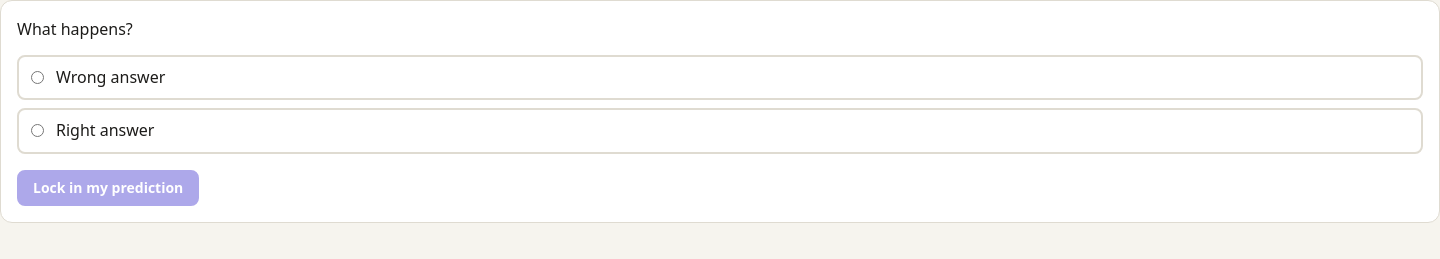
Test: Predict › reveals nothing until the prediction is locked in
Expected: the button "Lock in my prediction" is disabled, left=17, top=170, right=199, bottom=206
Click the radio button labelled "Right answer".
click(38, 131)  # box left=31, top=124, right=44, bottom=137
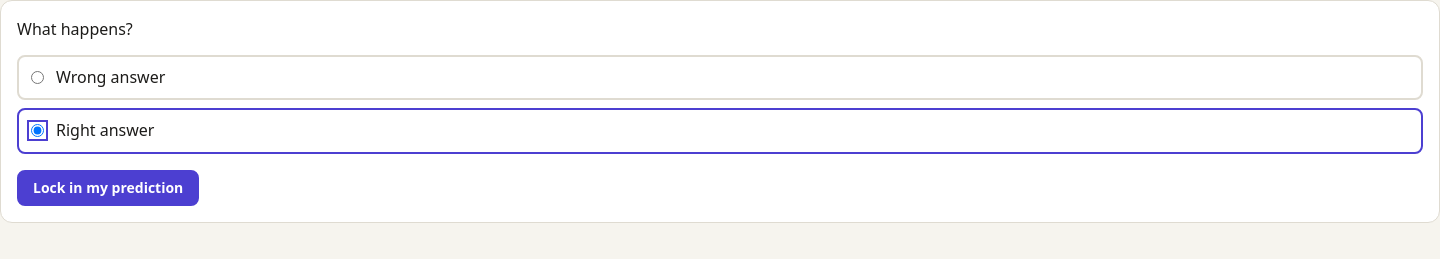
Expected: the text "reason B" is not shown
Click the button "Lock in my prediction".
click(108, 188)  # box left=17, top=170, right=199, bottom=206
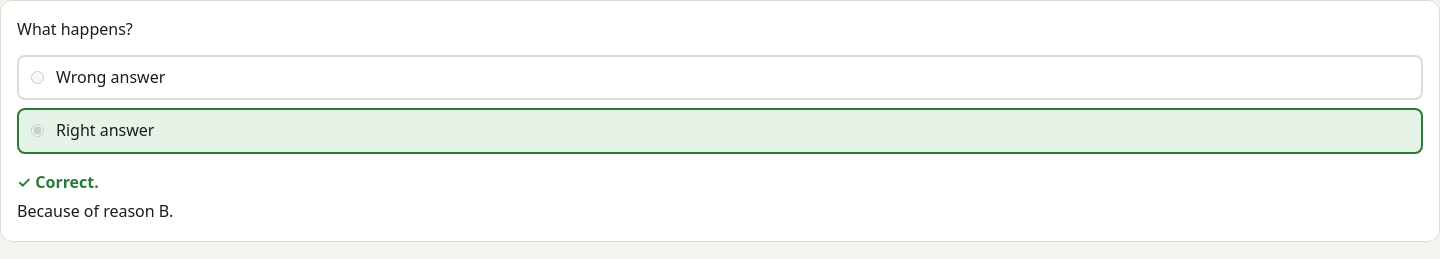
Now the text "✓ Correct." is shown, box left=17, top=171, right=99, bottom=193
Now the text "Because of reason B." is shown, box left=17, top=200, right=173, bottom=222
